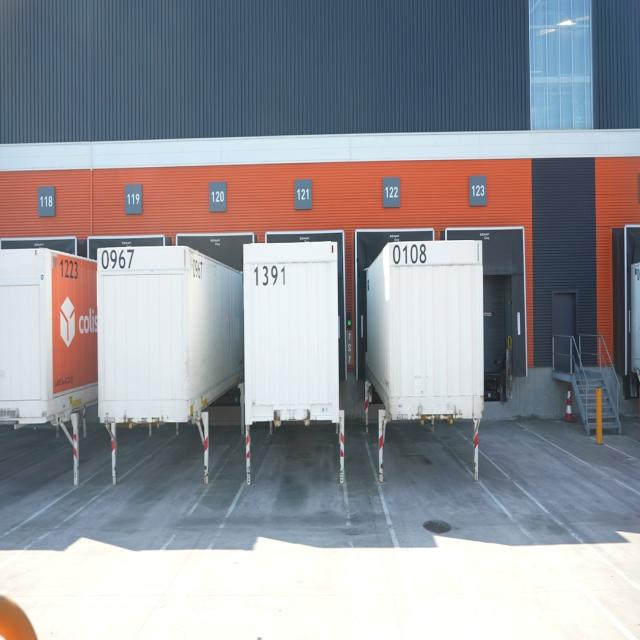Code: (387, 240, 430, 271), (250, 260, 290, 292), (99, 244, 135, 272), (55, 253, 81, 286), (189, 253, 206, 282)
